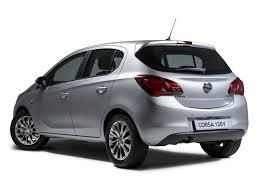opel: (199, 79, 216, 98)
